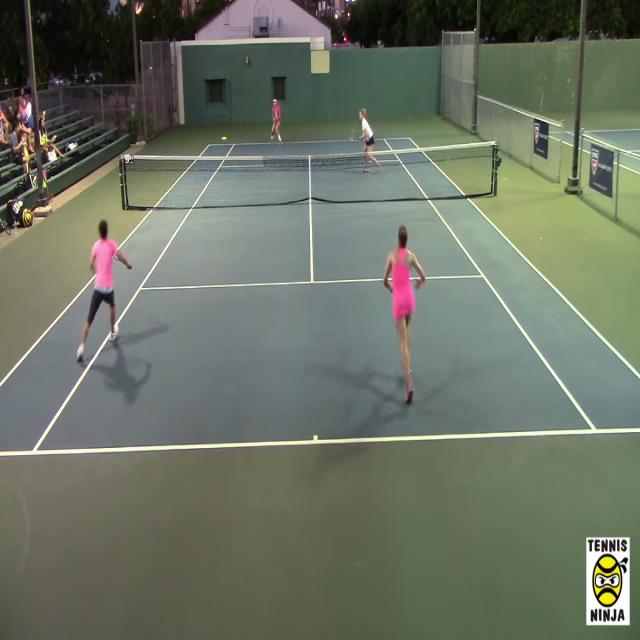ball: (39, 132, 49, 146), (221, 135, 229, 142)
